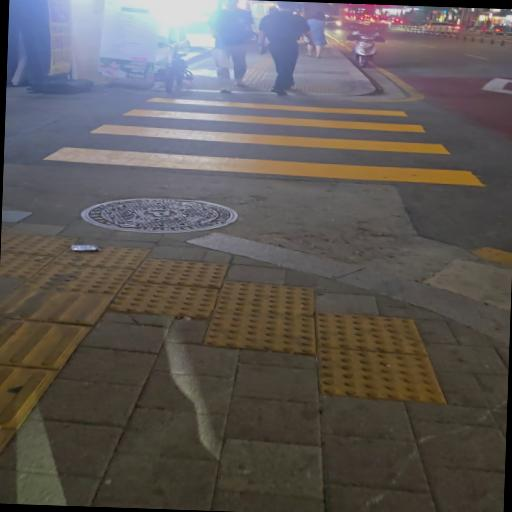yellow-crosswalk: (10, 86, 512, 192)
